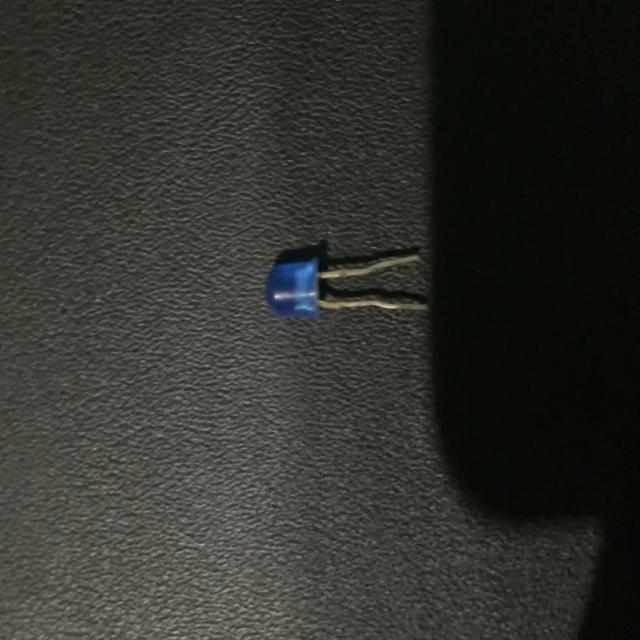LED: (265, 251, 430, 320)
